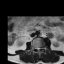CCS_stenosis: (38, 45, 39, 52)
LFS_normal: (41, 45, 43, 51)
LLS_normal: (39, 45, 41, 51)
RFS_normal: (35, 45, 36, 50)
RLS_normal: (36, 45, 38, 50)
